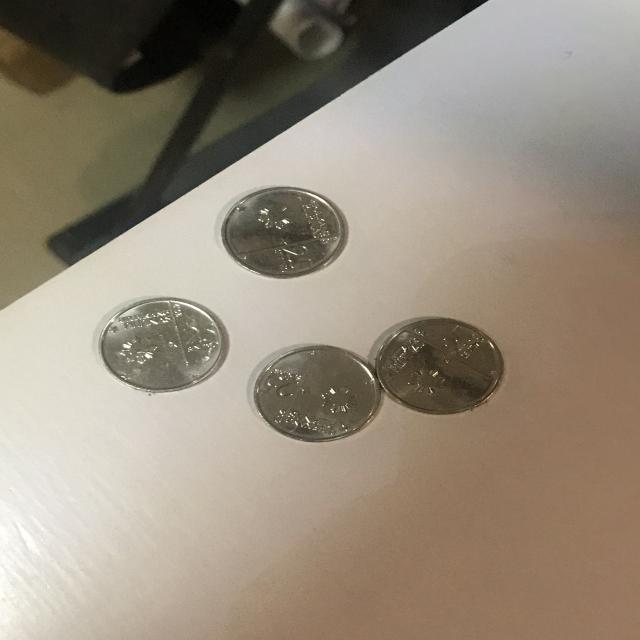25Cent_New_Front: (384, 326, 502, 411), (260, 357, 361, 443), (234, 200, 342, 266), (104, 312, 203, 381)
